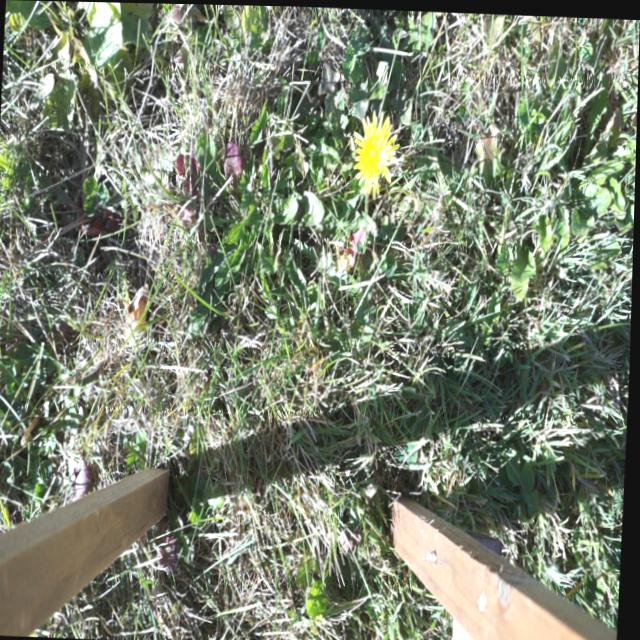base: (359, 198, 376, 226)
flower: (352, 109, 399, 189)
